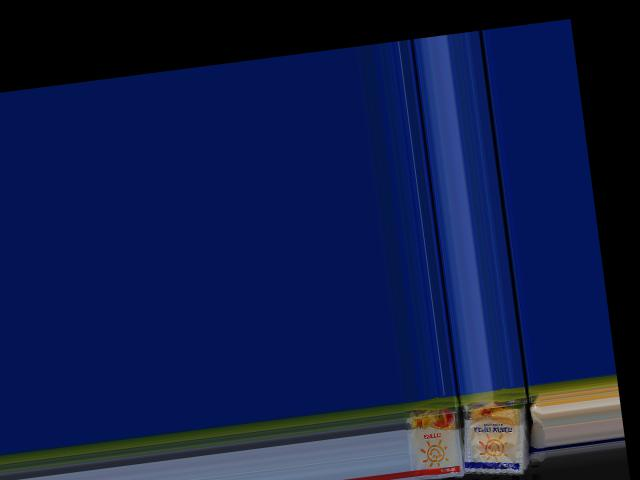cheese: (400, 395, 465, 480)
